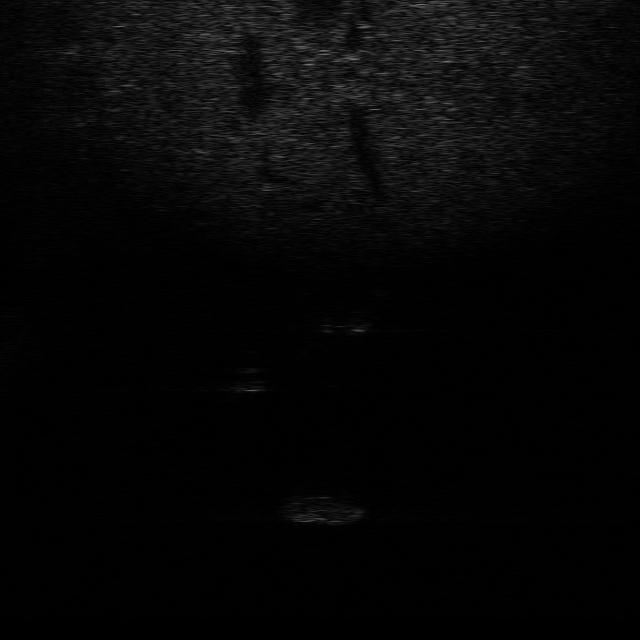ball: (296, 286, 392, 357)
circle cage: (226, 363, 272, 394)
